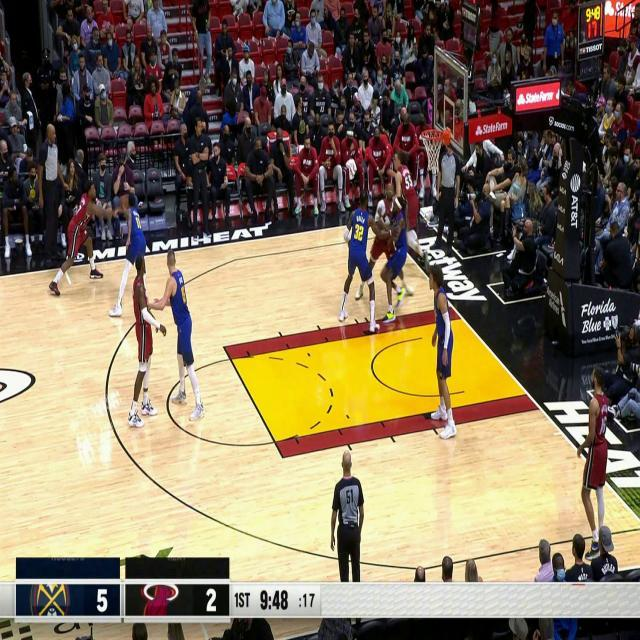rim: (118, 195, 128, 211)
